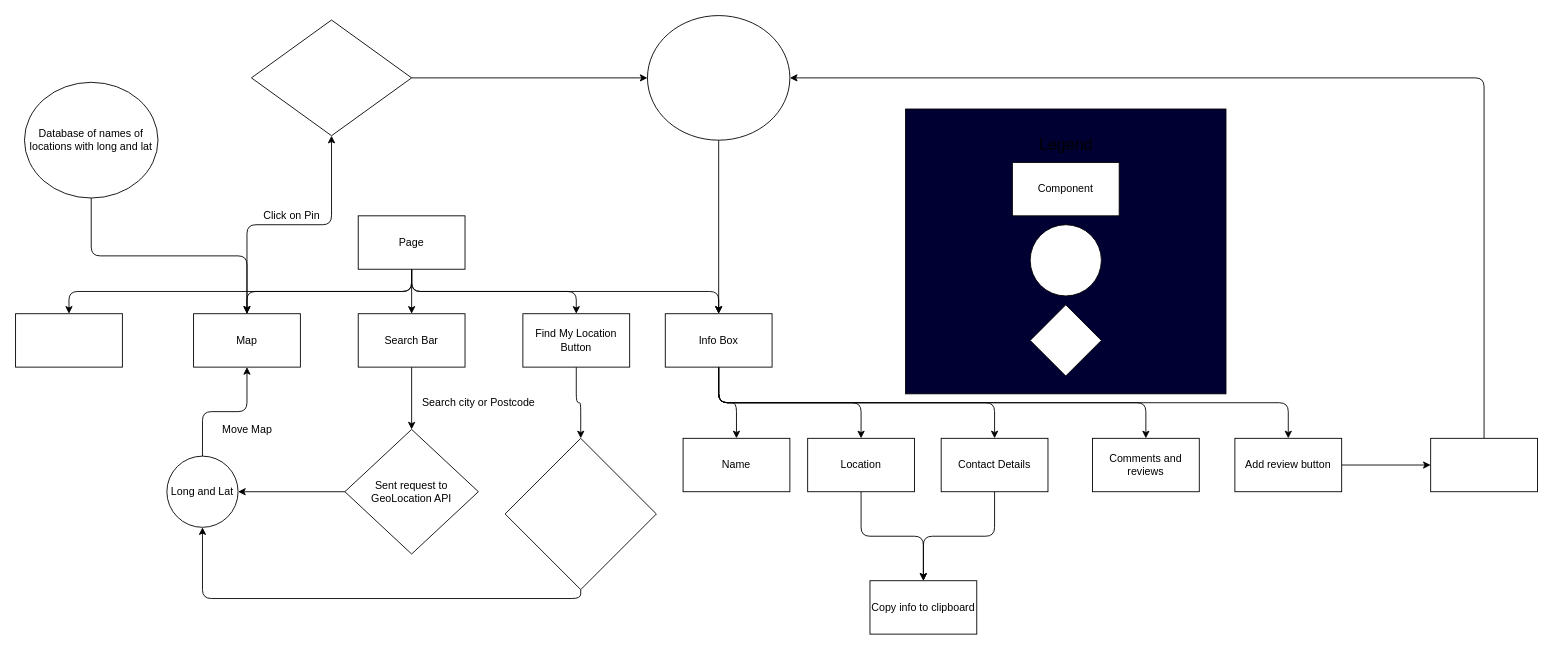
The diagram is 1553 pixels wide and 650 high, and some of its shapes have lost their labels. Here are the shapes that lost their labels. From the top down, the centre of each, then its label:
At point 331,77: "FetchRequest for more detail (reviews, contact detials)".
At point 718,77: "Location infor with contact details and reviews".
At point 1065,260: "State".
At point 68,340: "App Name".
At point 1065,340: "Function".
At point 1483,464: "Review Form".
At point 580,513: "Use built in ask for geolocation react function".
